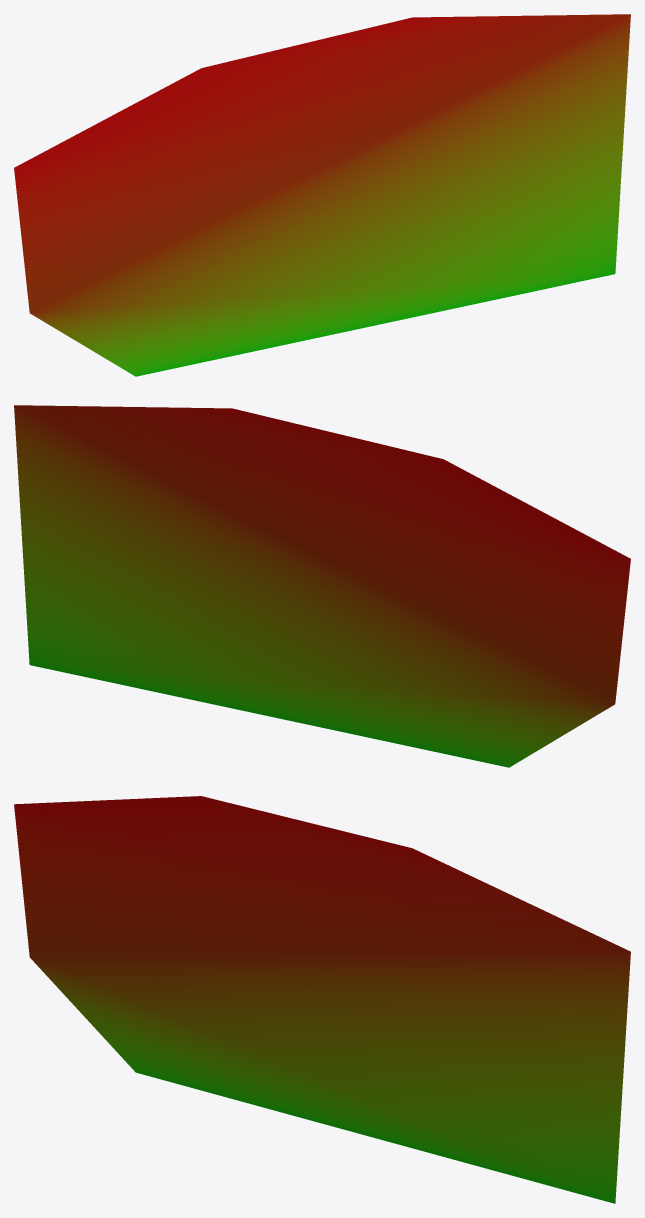
The model's file is Var20_LOD4.fbx.
The picture shows the model from 3 angles, top to bottom: view 1: azimuth 30°, elevation 25°; view 2: azimuth 150°, elevation 25°; view 3: azimuth 330°, elevation 25°; orthographic projection.
Visible parts, largest first — view 1: _pihg_Var20_LOD4; view 2: _pihg_Var20_LOD4; view 3: _pihg_Var20_LOD4.
Part boxes in pixels (x1,y1,x2,y2): _pihg_Var20_LOD4: (14,14,630,376); _pihg_Var20_LOD4: (14,405,630,767); _pihg_Var20_LOD4: (14,796,630,1203).
Bounding box in the file's own units: 28.83 × 13.7 × 6.19e-07.
